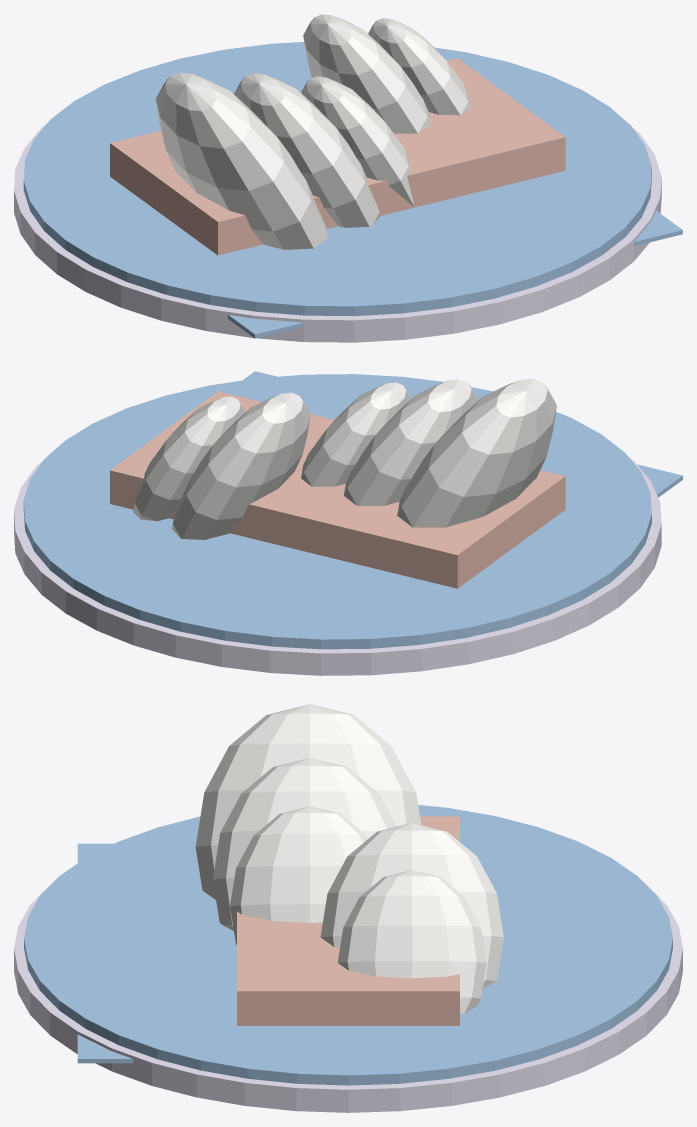
Rendered from opera.glb.
3 views of the same model, one above another, from view 1: azimuth 30°, elevation 25°; view 2: azimuth 150°, elevation 25°; view 3: azimuth 270°, elevation 25° (orthographic). The views are drawn at different scales.
Visible parts, largest first — view 1: opera; view 2: opera; view 3: opera.
Part boxes in pixels (x1,y1,x2,y2): opera: [14, 14, 682, 342]; opera: [14, 371, 682, 675]; opera: [14, 704, 682, 1112].
Size of the model in its own units: 2.1 by 0.7899 by 2.1.
